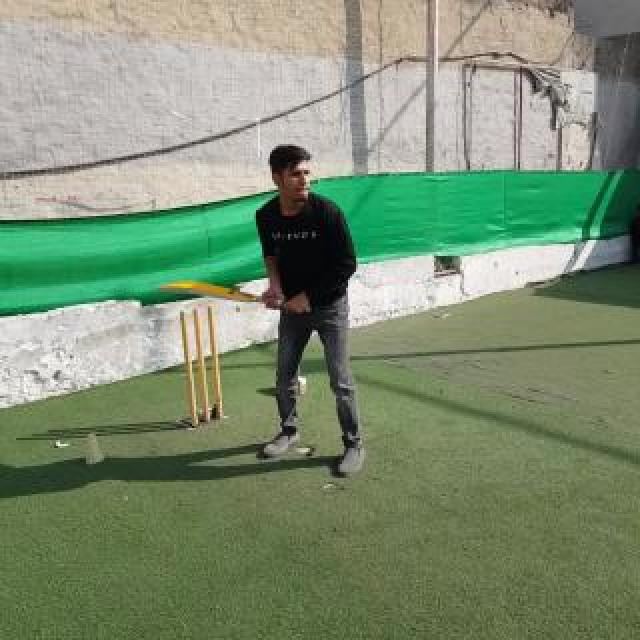bat: (158, 282, 312, 314)
